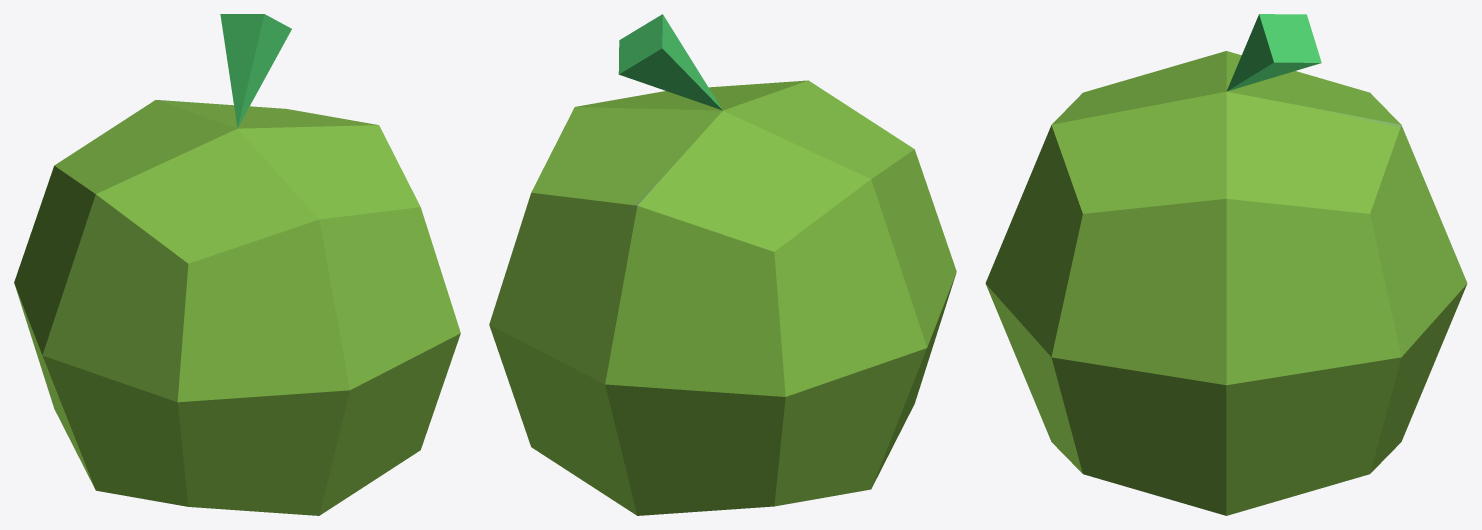
The model's file is Apple.fbx.
3 renders of one model, left to right at view 1: azimuth 30°, elevation 25°; view 2: azimuth 150°, elevation 25°; view 3: azimuth 270°, elevation 25°, orthographic. The views are drawn at different scales.
Visible parts, largest first — view 1: Apple; view 2: Apple; view 3: Apple.
Boxes of the visible parts, bbox=[...] form: Apple: bbox=[14, 14, 460, 515]; Apple: bbox=[489, 14, 956, 515]; Apple: bbox=[985, 14, 1467, 515].
Size of the model in its own units: 168 by 186 by 168.
